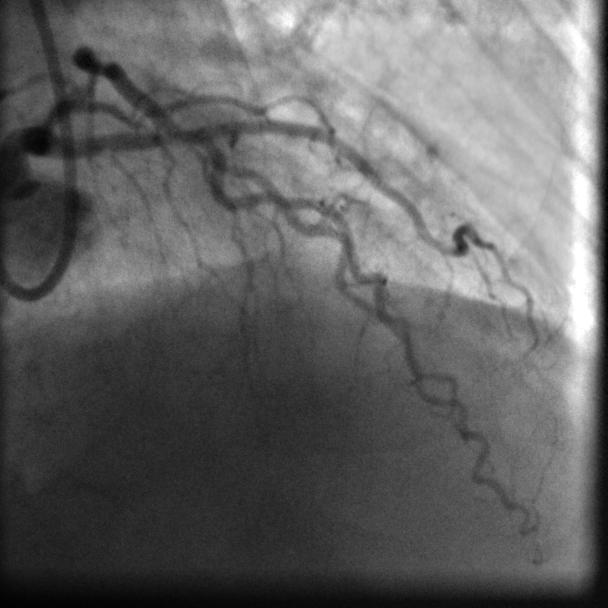Stenosis: (85, 44, 119, 82)
